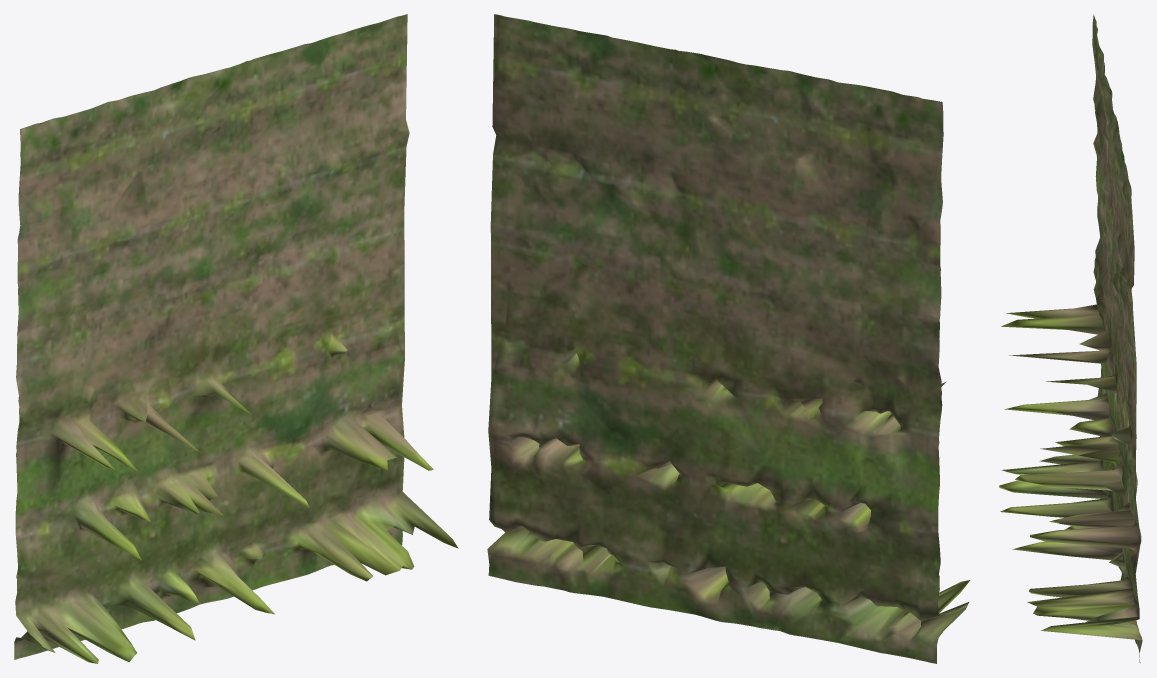
Rendered from map_110_100.obj.
3 views of the same model, side by side, from view 1: azimuth 30°, elevation 25°; view 2: azimuth 150°, elevation 25°; view 3: azimuth 270°, elevation 25° (orthographic). The views are drawn at different scales.
Visible parts, largest first — view 1: map_110_100.obj; view 2: map_110_100.obj; view 3: map_110_100.obj.
Part boxes in pixels (x1,y1,x2,y2): map_110_100.obj: [14, 14, 458, 663]; map_110_100.obj: [487, 14, 970, 663]; map_110_100.obj: [999, 14, 1142, 662].
Bounding box in the file's own units: 8 × 10 × 2.74.
Materials: 1 (1 with a texture image).
